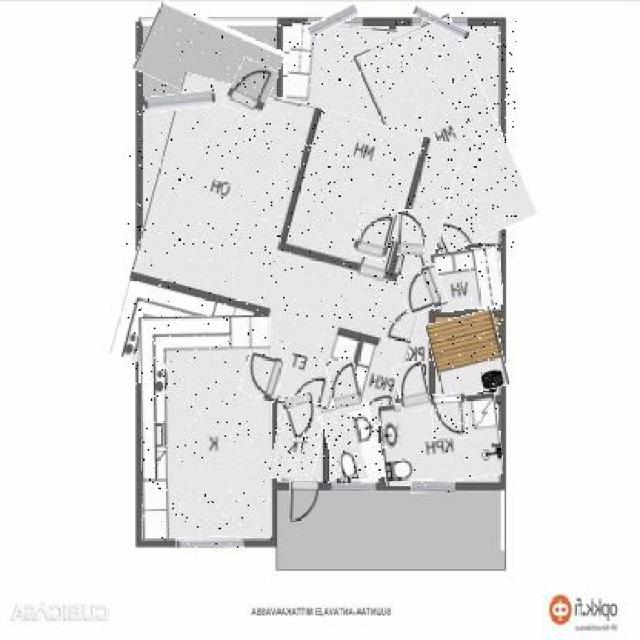door: (226, 60, 274, 118), (400, 266, 445, 314), (355, 208, 394, 258), (242, 354, 284, 400), (284, 392, 322, 440), (394, 362, 429, 412), (329, 358, 360, 414), (430, 394, 468, 438), (399, 211, 426, 255), (290, 482, 318, 522)
window: (144, 92, 216, 111), (412, 12, 470, 32), (308, 10, 360, 32), (176, 537, 244, 548), (411, 480, 455, 494), (331, 478, 377, 491)
zone: (126, 89, 445, 411), (375, 20, 517, 249), (140, 317, 271, 538), (278, 23, 392, 246), (137, 9, 280, 109), (382, 395, 502, 483), (430, 314, 504, 397), (325, 402, 383, 483), (272, 399, 325, 483), (432, 249, 502, 311)
